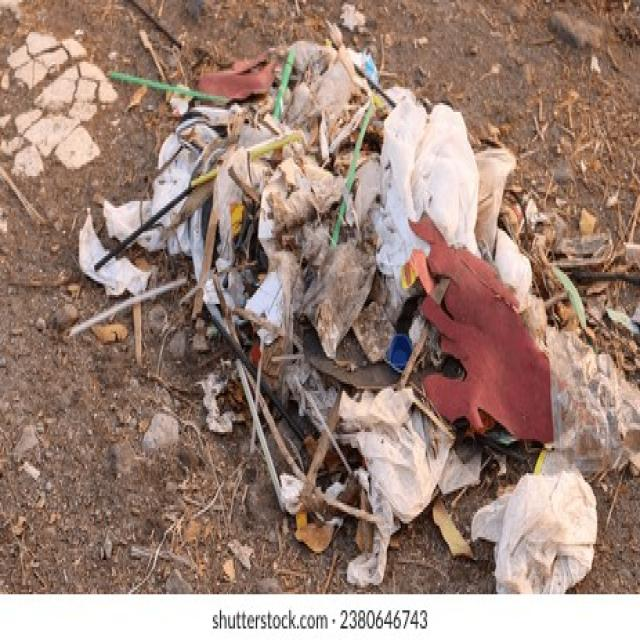paper: (394, 105, 473, 258), (362, 414, 430, 514)
